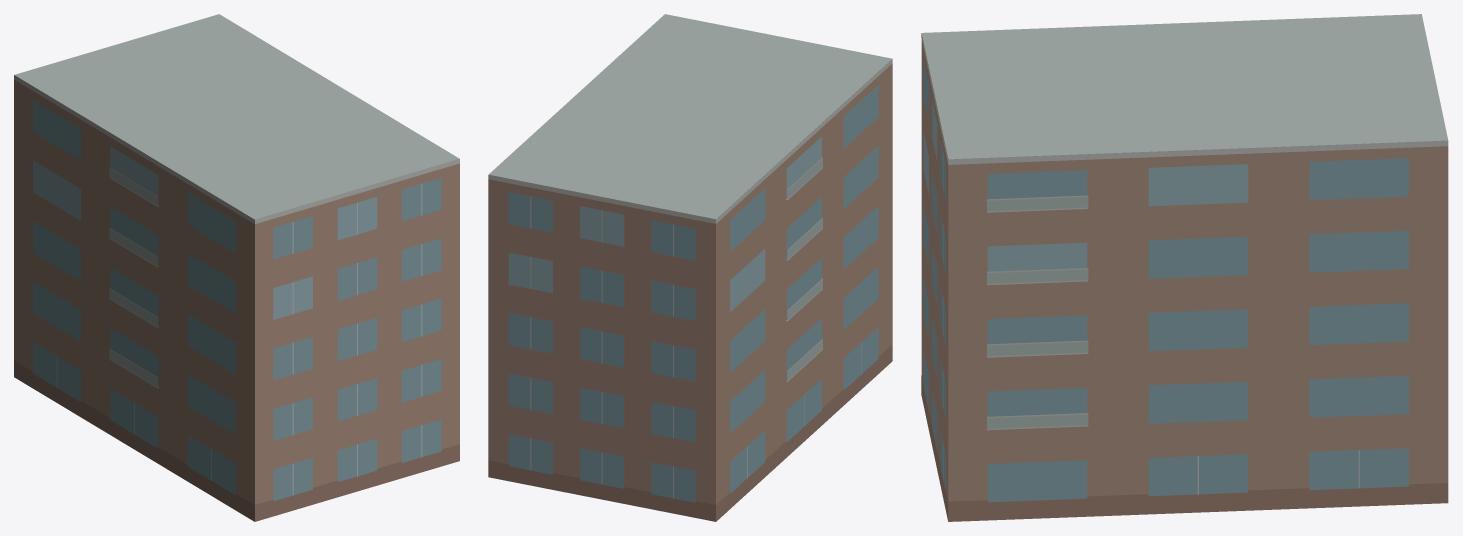
Rendered from survey-upis-32638826.glb.
The picture shows the model from 3 angles, left to right: view 1: azimuth 30°, elevation 25°; view 2: azimuth 150°, elevation 25°; view 3: azimuth 270°, elevation 25°; orthographic projection. The views are drawn at different scales.
Parts seen in each view (by area): view 1: survey-upis-32638826.tmp; view 2: survey-upis-32638826.tmp; view 3: survey-upis-32638826.tmp.
Boxes of the visible parts, x1,y1,x2,y2 form: survey-upis-32638826.tmp: [14, 14, 459, 521]; survey-upis-32638826.tmp: [488, 14, 892, 521]; survey-upis-32638826.tmp: [921, 14, 1448, 521].
Bounding box in the file's own units: 13.6 × 15.8 × 20.82.
